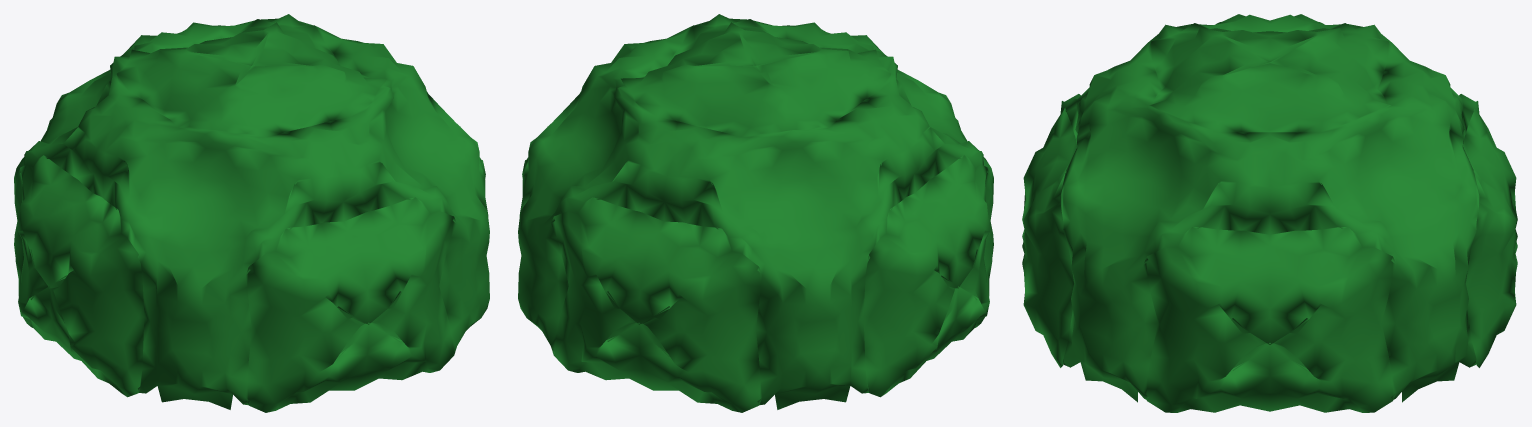
File: buschII.dae
The picture shows the model from 3 angles, left to right: view 1: azimuth 30°, elevation 25°; view 2: azimuth 150°, elevation 25°; view 3: azimuth 270°, elevation 25°; orthographic projection. The views are drawn at different scales.
Parts seen in each view (by area): view 1: Geosph_re001; view 2: Geosph_re001; view 3: Geosph_re001.
Part boxes in pixels (box(x1,y1,x2,y2)): Geosph_re001: box(14, 14, 489, 412); Geosph_re001: box(518, 14, 993, 412); Geosph_re001: box(1022, 14, 1517, 412).
Bounding box in the file's own units: 1.74 × 1.74 × 1.05.
